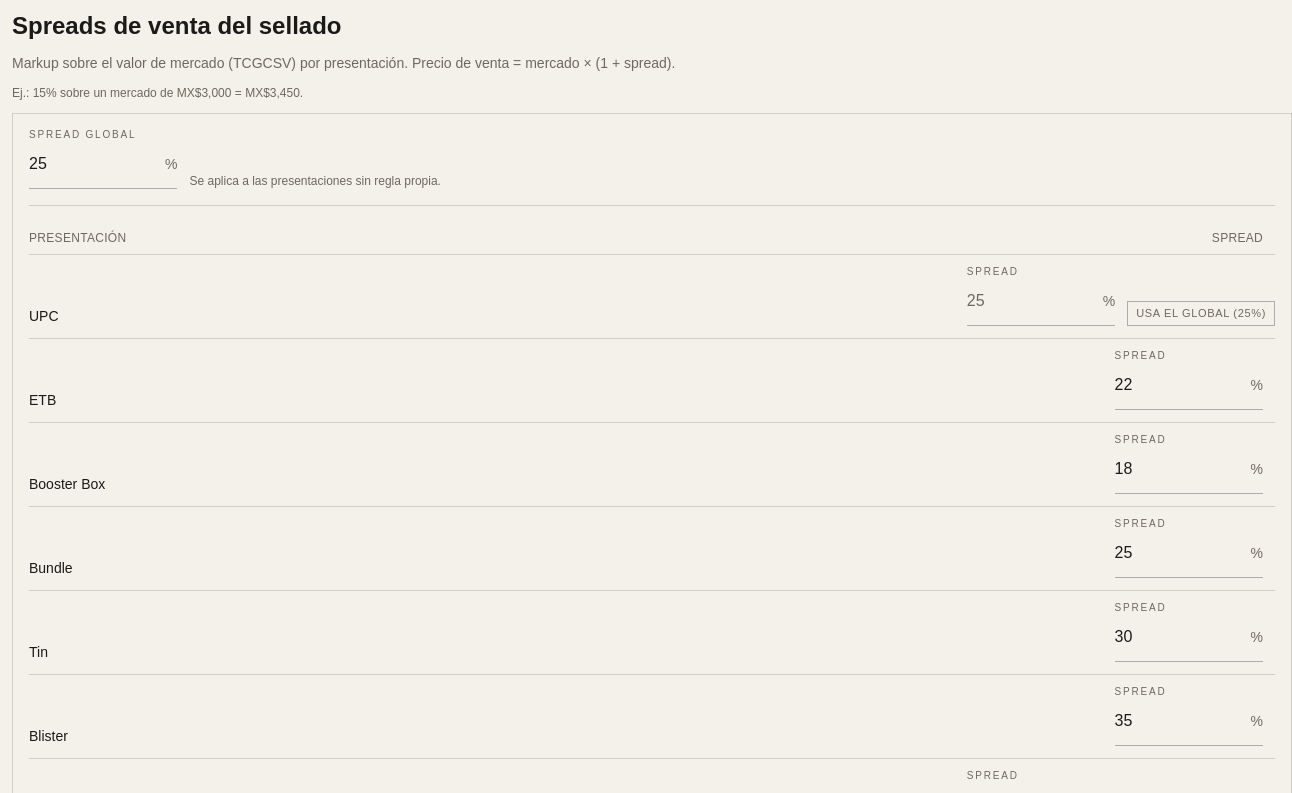
Test: SealedSpreadsSection · una fila por valor del enum (T-1) › el GLOBAL no se puede vaciar: se impide el guardado y se explica
Clear the field labelled "Spread global": (93, 164) [29, 152, 157, 176]
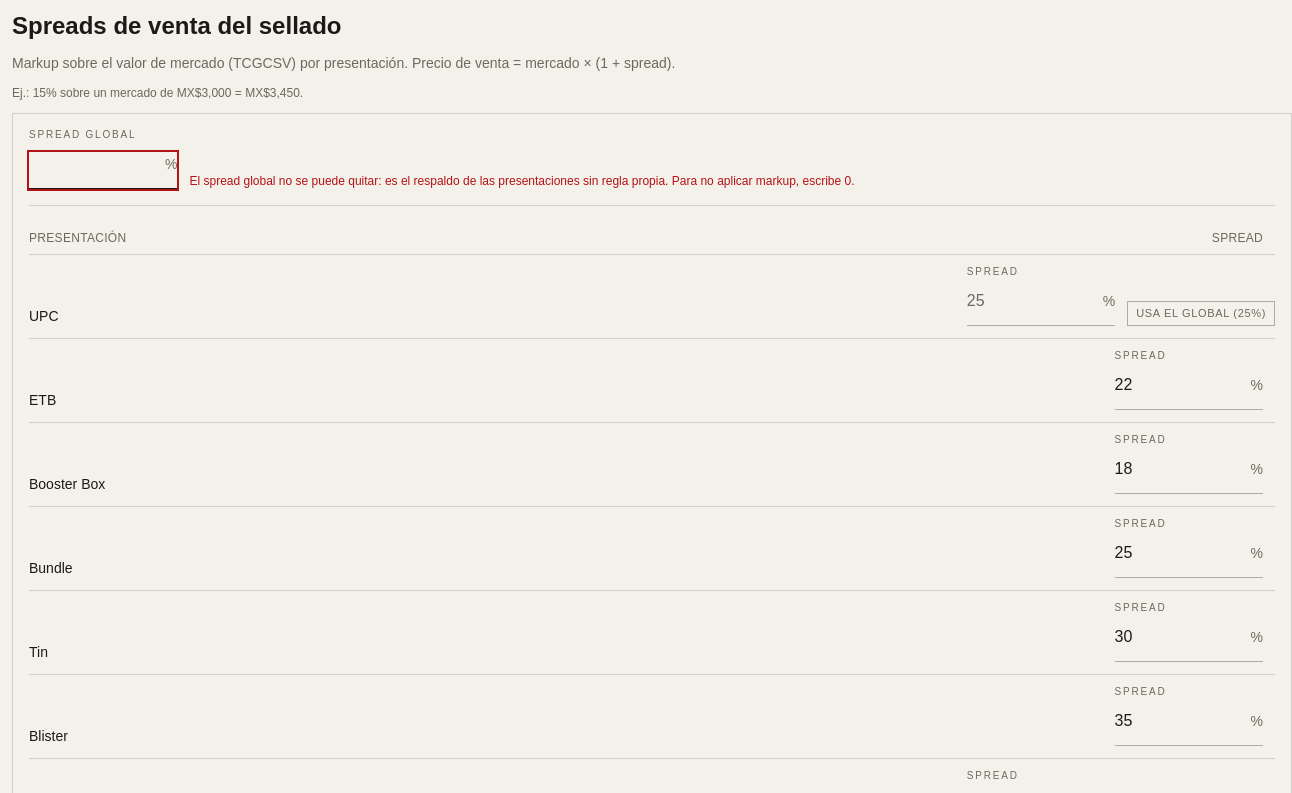
expect the text "Usa el global (25%)" in the row of "UPC" is shown: met, box [1136, 307, 1266, 319]
expect the text "El spread global no se puede quitar" is shown: met, box [190, 174, 855, 188]
